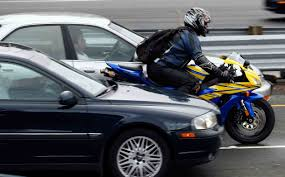helmet: (183, 6, 213, 37)
